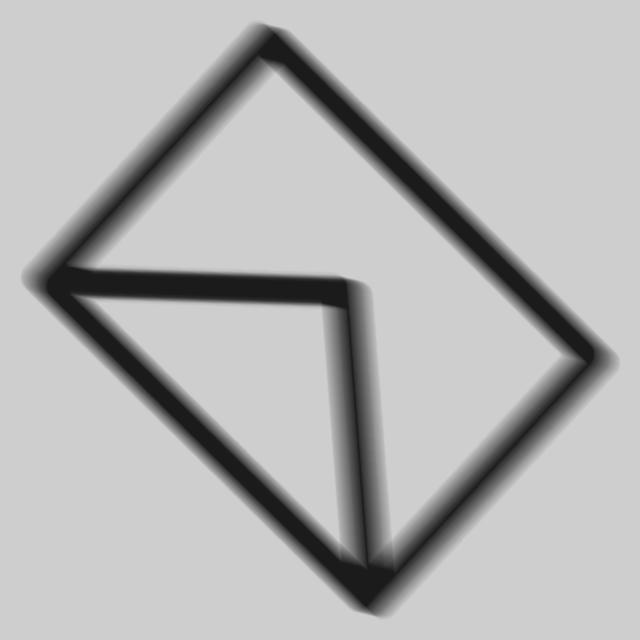letter: (11, 14, 630, 626)
